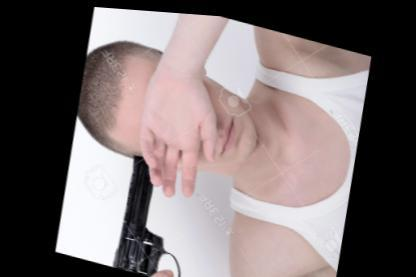pistol: (109, 146, 236, 275)
